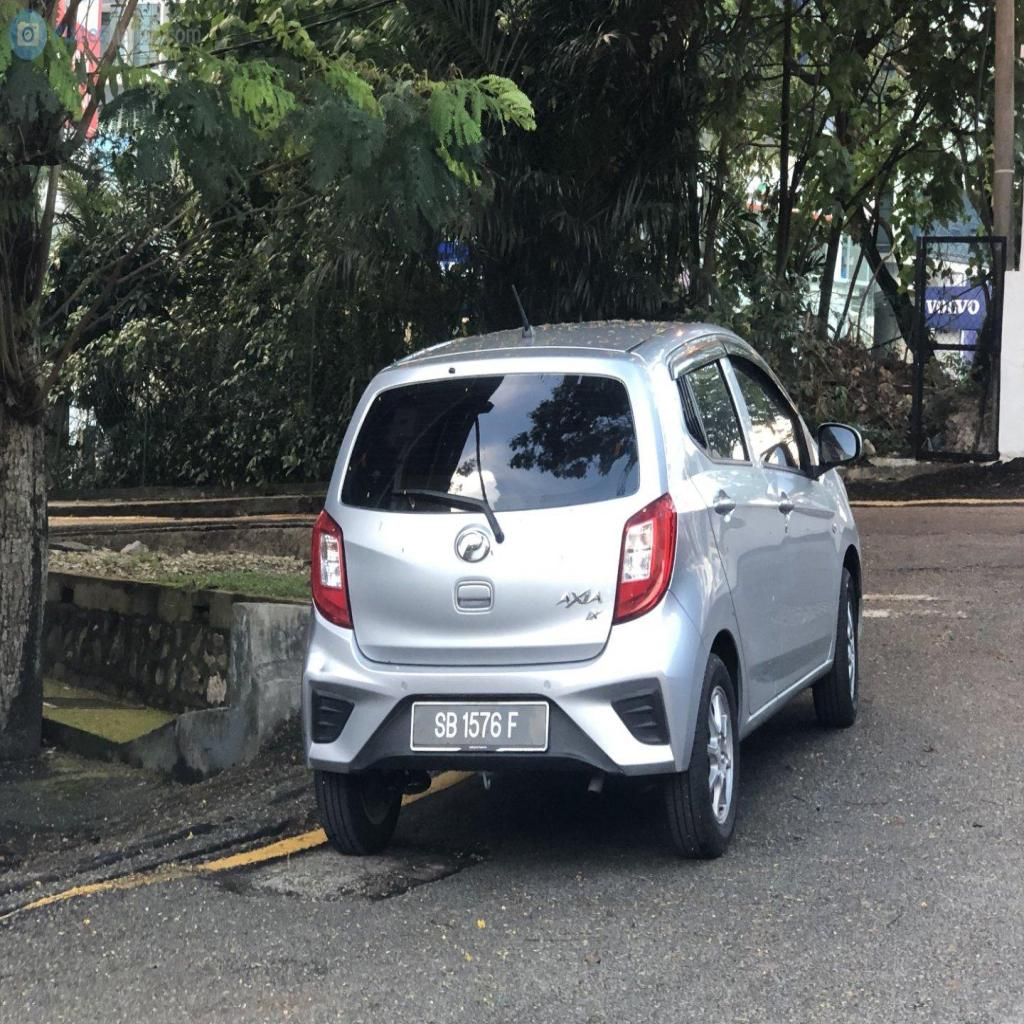car: (302, 321, 860, 855)
car plate: (410, 701, 548, 750)
